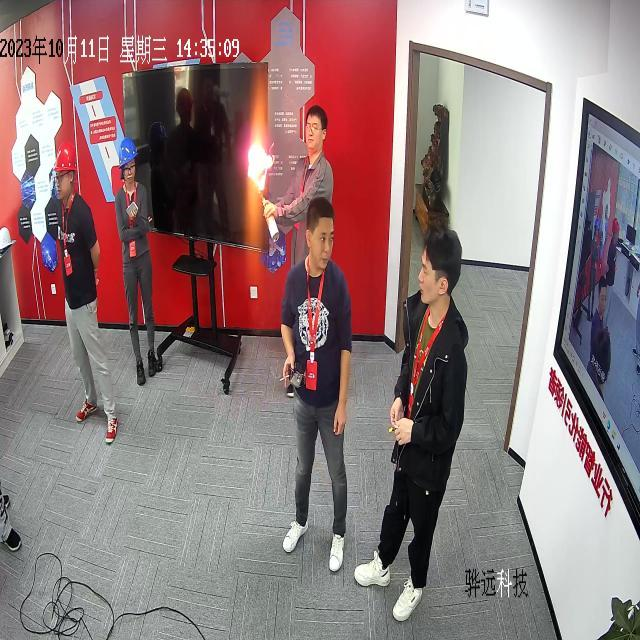Fire: (248, 142, 272, 192)
